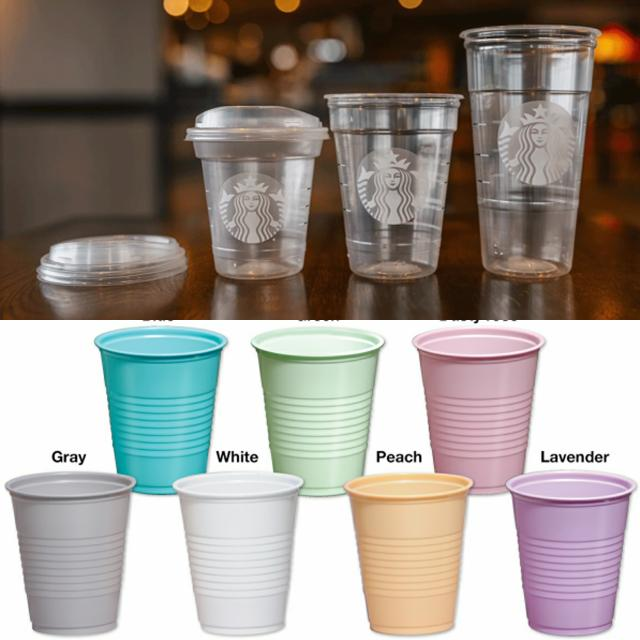Single-Use-Plastic: (461, 25, 600, 278), (325, 94, 462, 279), (186, 106, 328, 279), (251, 328, 384, 496), (96, 326, 226, 494), (414, 326, 544, 494), (5, 471, 135, 634), (174, 471, 304, 634), (506, 471, 636, 634), (344, 474, 472, 634)
